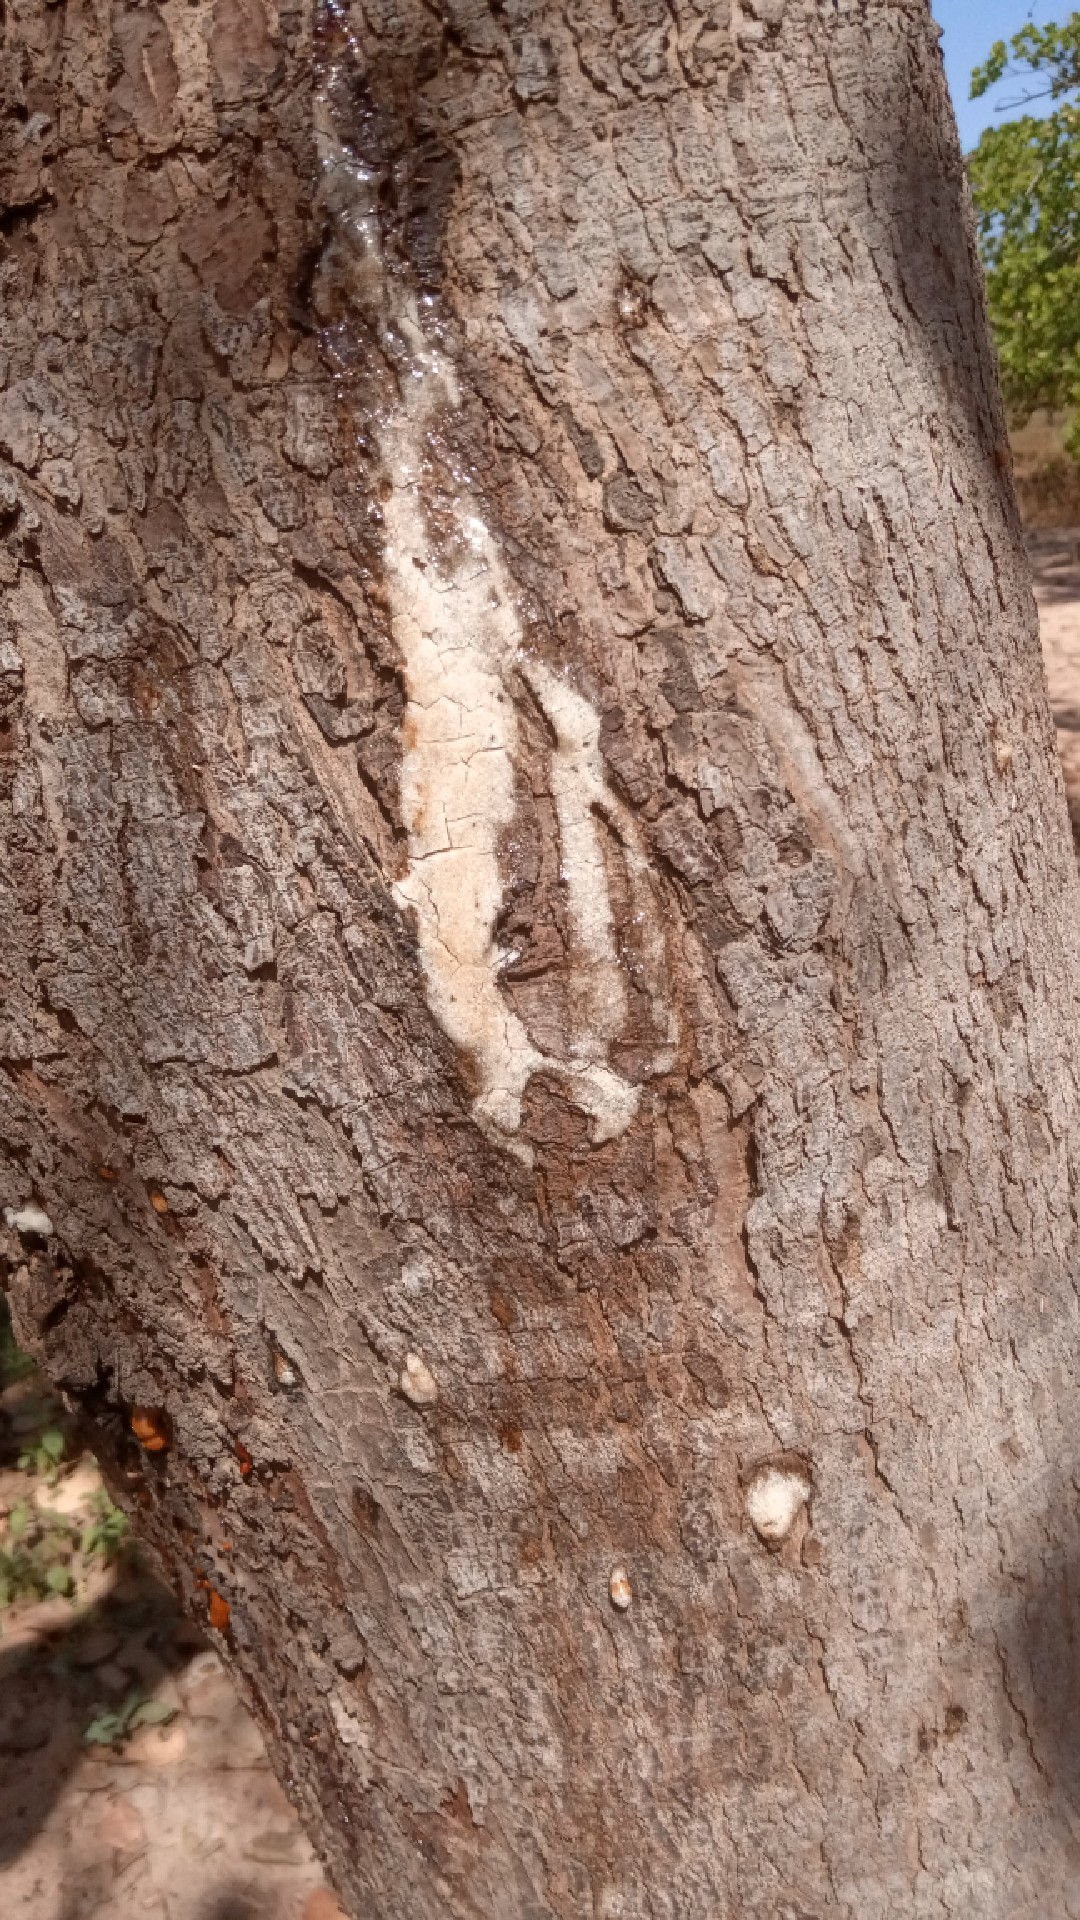Gommose: (278, 30, 764, 1269)
